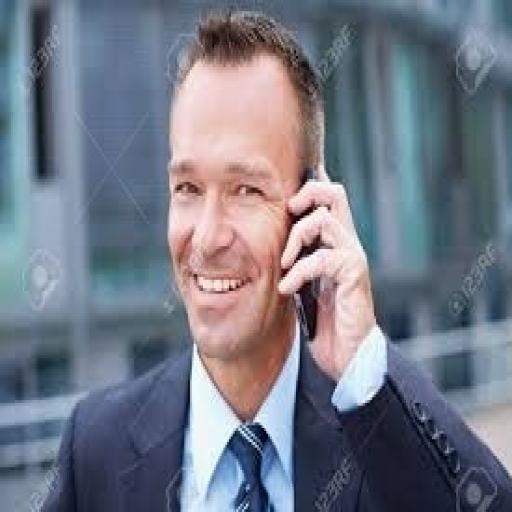calling: (28, 8, 510, 510)
